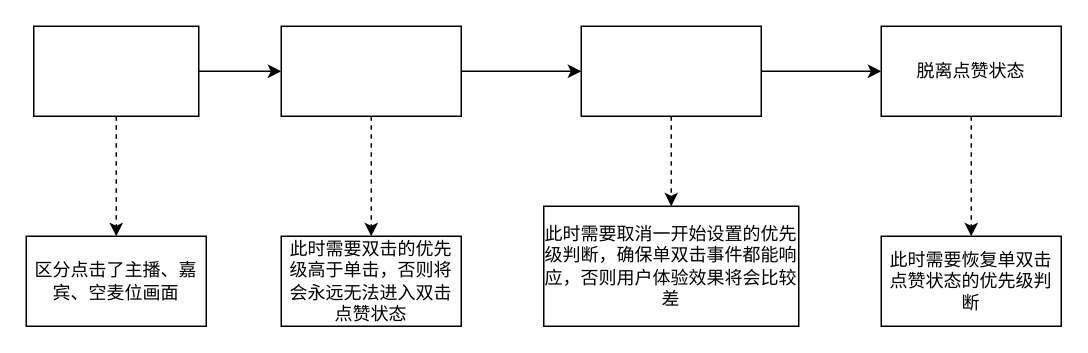
Image size: 1088x353. Some labels were removed from this diagram. Here are the shapes that lost their labels. From the top down, the centre of each, then its label:
At point (115, 70): "单击（未进入点赞状态）".
At point (370, 70): "第一次双击（未进入点赞状态）".
At point (670, 70): "后续的单、双击（处于点赞状态）".
